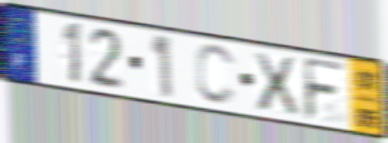1: (149, 33, 175, 102), (57, 20, 84, 86)
2: (88, 26, 127, 92)
C: (194, 42, 239, 109)
F: (301, 55, 349, 124)
X: (250, 50, 303, 117)
